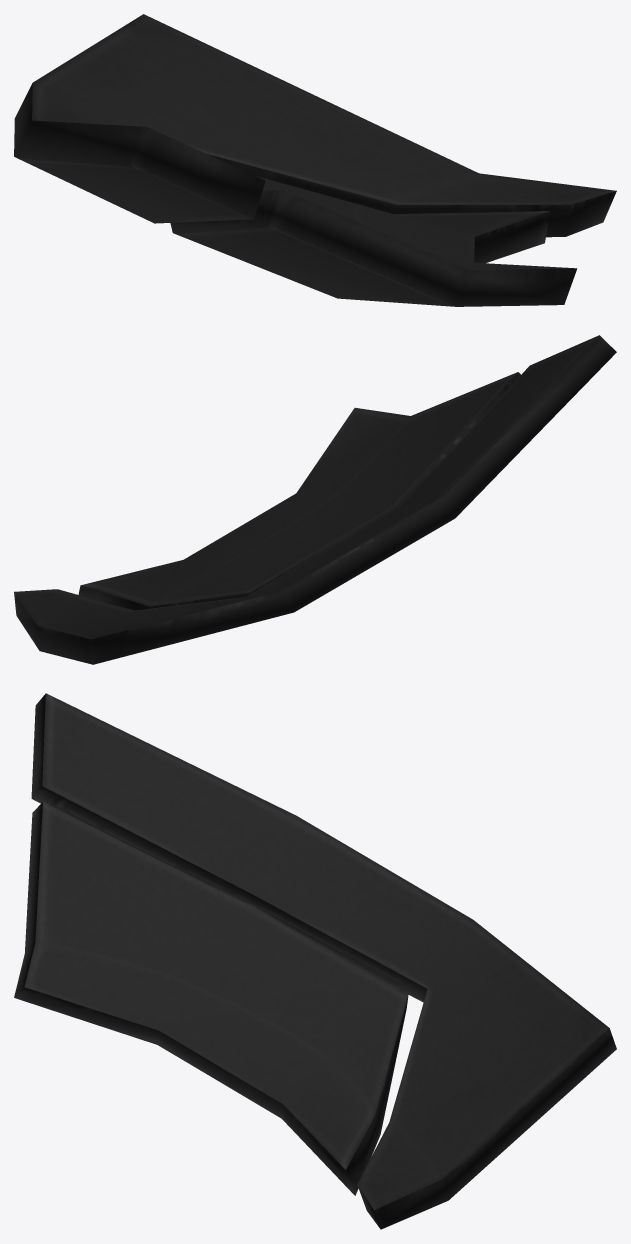
Rendered from pinger_plate_mid_left.dae.
3 views of the same model, one above another, from view 1: azimuth 30°, elevation 25°; view 2: azimuth 150°, elevation 25°; view 3: azimuth 270°, elevation 25° (orthographic). The views are drawn at different scales.
Parts seen in each view (by area): view 1: pinger_plate_mid_left; view 2: pinger_plate_mid_left; view 3: pinger_plate_mid_left.
Part boxes in pixels (box(x1,y1,x2,y2)): pinger_plate_mid_left: box(14, 14, 616, 306); pinger_plate_mid_left: box(14, 335, 616, 664); pinger_plate_mid_left: box(14, 693, 616, 1229).
Size of the model in its own units: 1.27 by 1.34 by 0.7422.
Materials: 1 (1 with a texture image).
